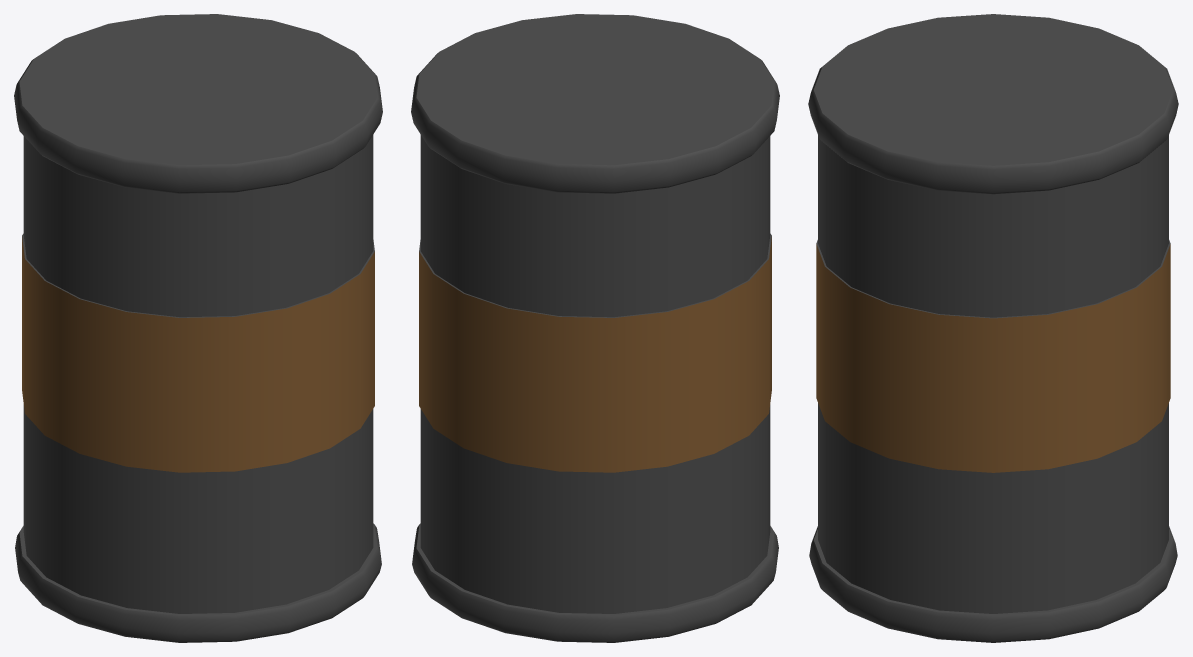
The model's file is Barrel4_colourcoded.fbx.
3 renders of one model, left to right at view 1: azimuth 30°, elevation 25°; view 2: azimuth 150°, elevation 25°; view 3: azimuth 270°, elevation 25°, orthographic.
Visible parts, largest first — view 1: pCylinder1; view 2: pCylinder1; view 3: pCylinder1.
Part boxes in pixels (x1,y1,x2,y2): pCylinder1: (14,14,382,642); pCylinder1: (411,14,779,642); pCylinder1: (808,14,1178,642).
Size of the model in its own units: 4.22 by 6 by 4.22.
